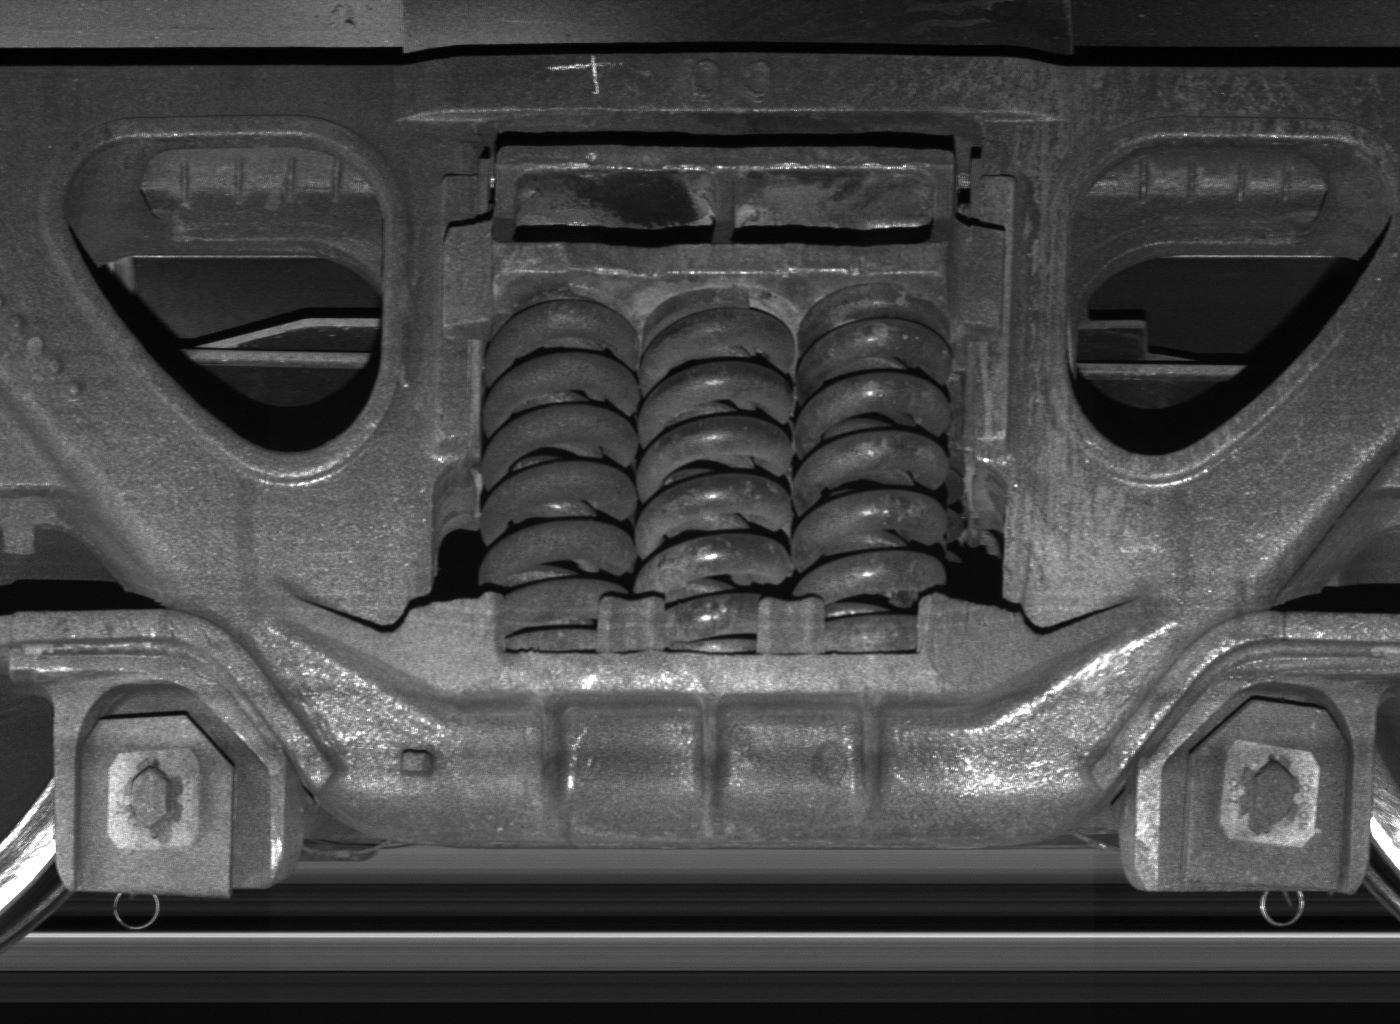normal: (1134, 680, 1373, 892), (55, 680, 285, 896)
